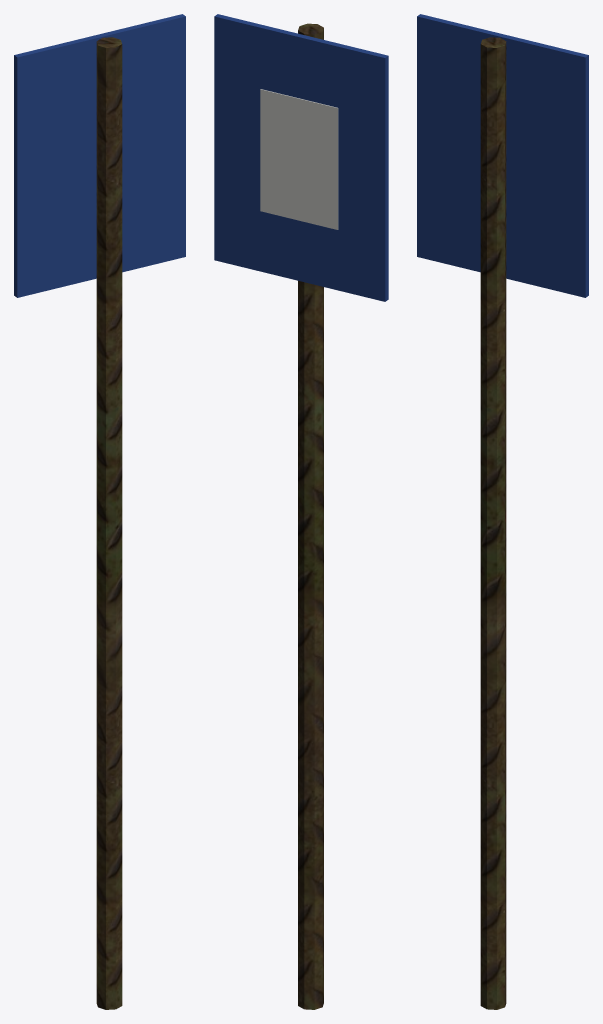
File: prop_sign_parking.gltf
The picture shows the model from 3 angles, left to right: view 1: azimuth 30°, elevation 25°; view 2: azimuth 150°, elevation 25°; view 3: azimuth 330°, elevation 25°; orthographic projection.
Visible parts, largest first — view 1: prop_sign_parking; view 2: prop_sign_parking; view 3: prop_sign_parking.
Part boxes in pixels (left/top/right/bottom): prop_sign_parking: left=14, top=14, right=185, bottom=1009; prop_sign_parking: left=214, top=14, right=388, bottom=1009; prop_sign_parking: left=417, top=14, right=588, bottom=1009.
Size of what is drawn, in the model's own units: 0.44 by 2.4 by 0.083.
Materials: 3 (1 with a texture image).
